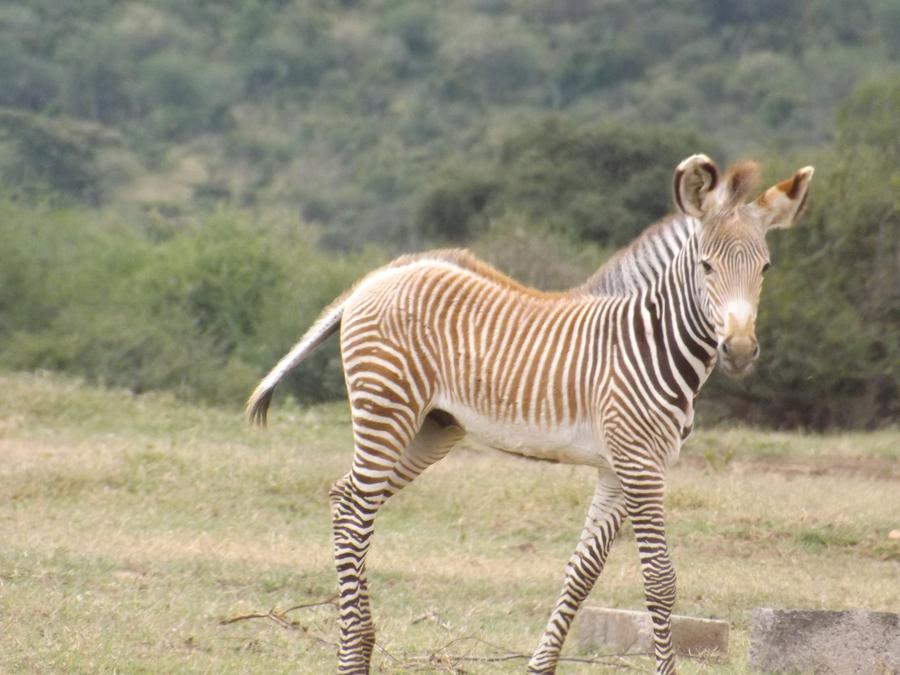zebra_grevys: (332, 218, 677, 478)
